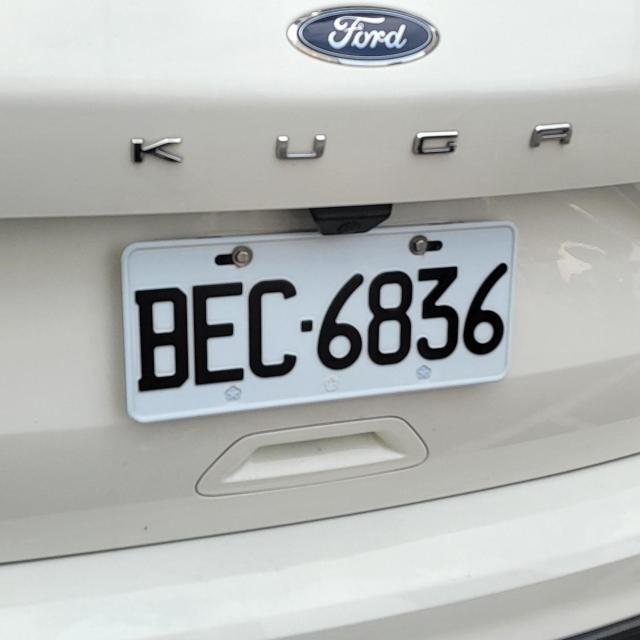W: (109, 221, 528, 426)
